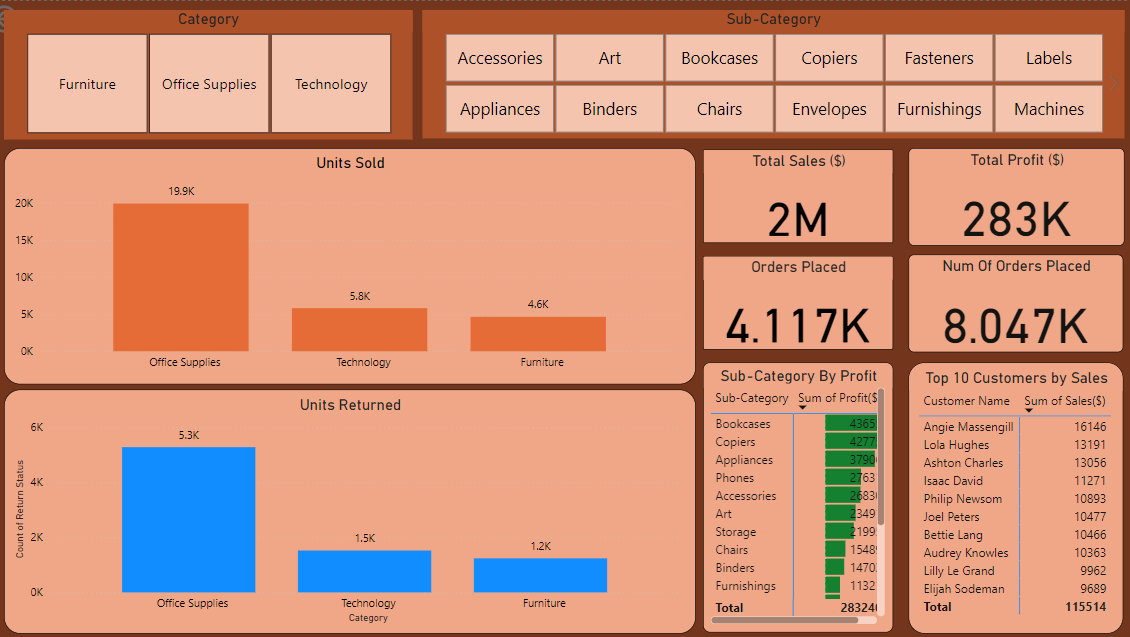

This screenshot's page, from the dashboard's own definition file:
{"tool":"powerbi","page":{"name":"Page 2","canvas":[1280,720],"ordinal":1},"visuals":[{"type":"actionButton","box":[0,0,100,40],"z":0},{"type":"columnChart","title":"Units Returned","fields":{"Category":["Order Breakdown.Category","Order Breakdown.Sub-Category"],"Y":["Order Breakdown.Return Status"]},"box":[20,431.4,768.6,271.4],"z":1000},{"type":"slicer","title":"Category","fields":{"Values":["Order Breakdown.Category"]},"box":[19.7,10.6,454.3,143.8],"z":2000},{"type":"slicer","title":"Sub-Category","fields":{"Values":["Order Breakdown.Sub-Category"]},"box":[484.3,10,780,142.9],"z":3000},{"type":"pivotTable","title":"Top 10 Customers by Sales","fields":{"Rows":["List of Orders.Customer Name"],"Values":["Order Breakdown.Sales"]},"box":[1025.7,401.4,238.6,301.4],"z":4000},{"type":"cardVisual","title":"Num Of Orders Placed","fields":{"Data":["Order Breakdown.Order ID"]},"box":[1025.7,281.4,238.6,108.6],"z":5000},{"type":"cardVisual","title":"Total Sales ($)","fields":{"Data":["Order Breakdown.Sales"]},"box":[797.1,164.3,211.4,104.3],"z":6000},{"type":"columnChart","title":" Units Sold","fields":{"Y":["Order Breakdown.Quantity(Count)"],"Category":["Order Breakdown.Category","Order Breakdown.Sub-Category"]},"box":[20,162.9,768.6,262.9],"z":7000},{"type":"pivotTable","title":"Sub-Category By Profit","fields":{"Rows":["Order Breakdown.Sub-Category"],"Values":["Order Breakdown.Profit($)"]},"box":[797.1,401.4,211.4,300],"z":8000},{"type":"cardVisual","title":"Total Profit ($)","fields":{"Data":["Order Breakdown.Profit($)"]},"box":[1025.7,162.9,240,108.6],"z":9000},{"type":"cardVisual","title":"Orders Placed","fields":{"Data":["List of Orders.Order ID"]},"box":[797.1,282.9,211.4,104.3],"z":10000}]}

Visuals, with their boxes in screenshot pixels (x1, y1, x2, y2), scaled from the page's 1280x720 canvas onto the 1130x637 screenshot:
actionButton: 0,0,88,35
"Units Returned" columnChart: 18,382,696,622
"Category" slicer: 17,9,418,137
"Sub-Category" slicer: 428,9,1116,135
"Top 10 Customers by Sales" pivotTable: 906,355,1116,622
"Num Of Orders Placed" cardVisual: 906,249,1116,345
"Total Sales ($)" cardVisual: 704,145,890,238
" Units Sold" columnChart: 18,144,696,377
"Sub-Category By Profit" pivotTable: 704,355,890,621
"Total Profit ($)" cardVisual: 906,144,1117,240
"Orders Placed" cardVisual: 704,250,890,343
